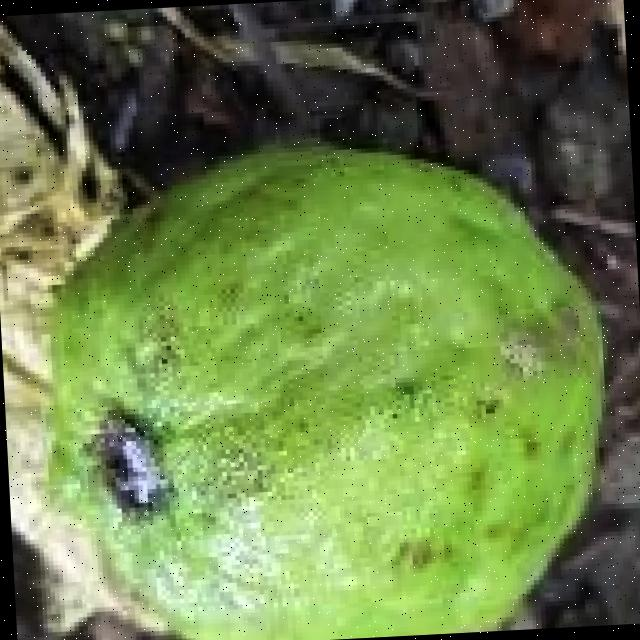Good_Guava 5-7 days: (51, 149, 598, 640)
